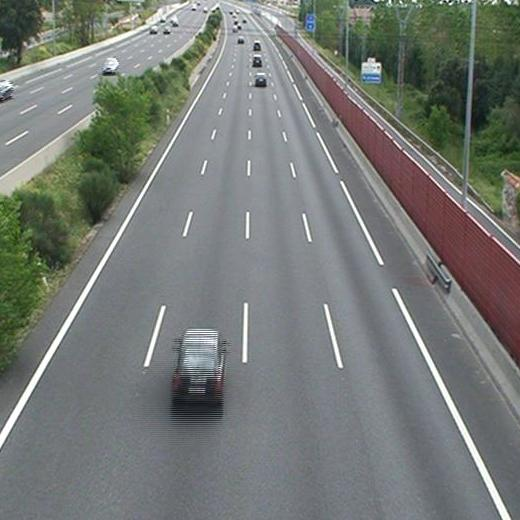car: (172, 328, 222, 395), (255, 72, 268, 85), (251, 56, 262, 66), (253, 42, 261, 50)
